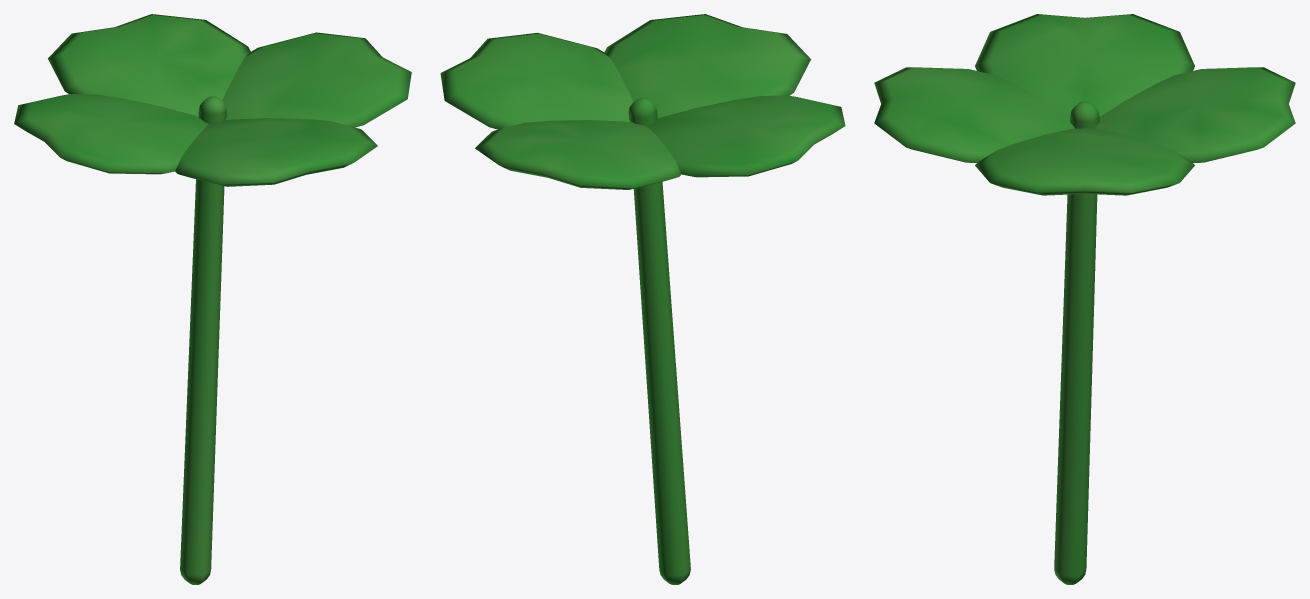
Rendered from Clover4.glb.
3 views of the same model, side by side, from view 1: azimuth 30°, elevation 25°; view 2: azimuth 150°, elevation 25°; view 3: azimuth 270°, elevation 25° (orthographic). The views are drawn at different scales.
Parts seen in each view (by area): view 1: CloverMesh; view 2: CloverMesh; view 3: CloverMesh.
Part boxes in pixels (x1,y1,x2,y2): CloverMesh: (14, 14, 411, 584); CloverMesh: (440, 14, 845, 584); CloverMesh: (874, 14, 1295, 584).
Size of the model in its own units: 0.0574 by 0.0749 by 0.0574.
